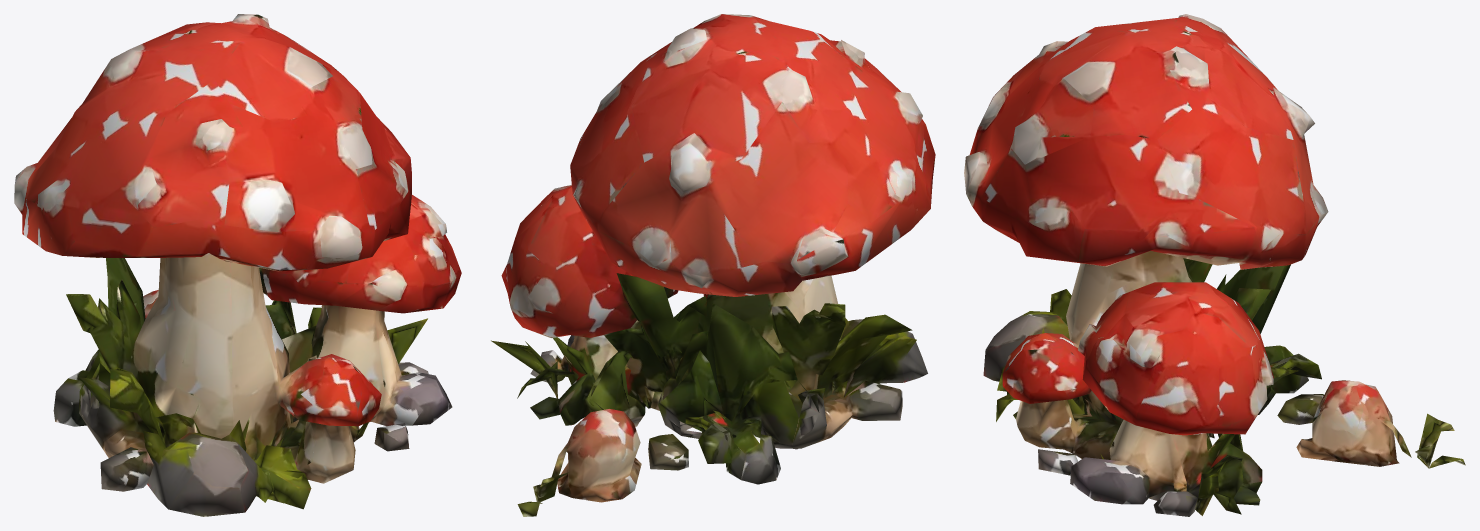
The model's file is dec_mushrooms.glb.
3 renders of one model, left to right at view 1: azimuth 30°, elevation 25°; view 2: azimuth 150°, elevation 25°; view 3: azimuth 270°, elevation 25°, orthographic. The views are drawn at different scales.
Parts seen in each view (by area): view 1: BakeLow; view 2: BakeLow; view 3: BakeLow.
Boxes of the visible parts, <box> form: BakeLow: <box>14,14,461,516</box>; BakeLow: <box>491,14,935,516</box>; BakeLow: <box>964,14,1465,516</box>.
Size of the model in its own units: 0.7939 by 0.7706 by 0.8676.
Materials: 1 (1 with a texture image).
